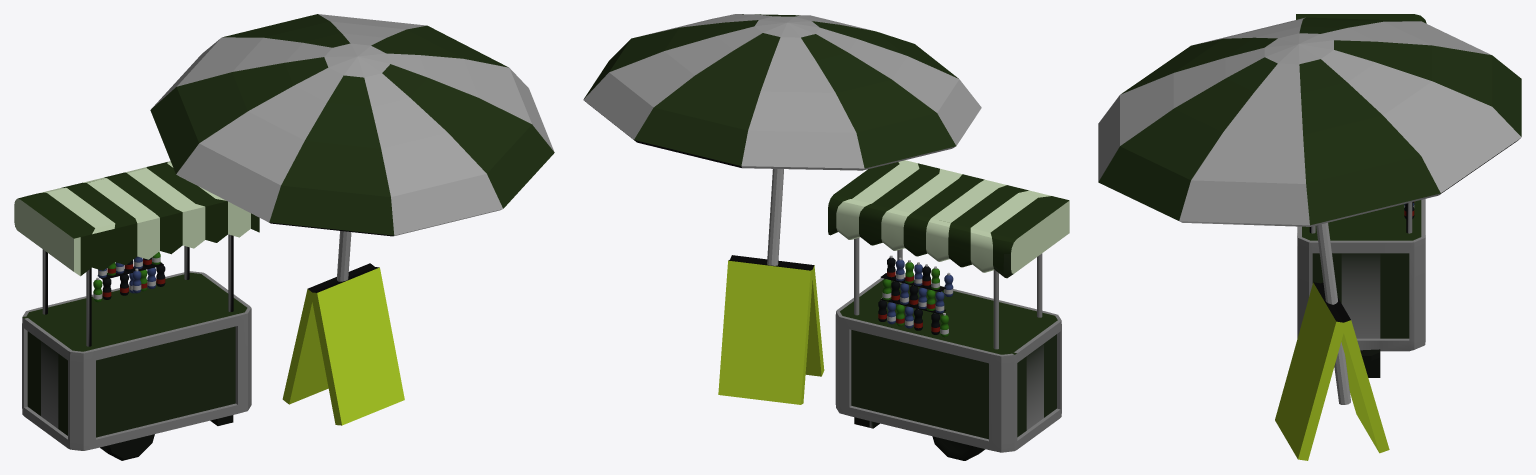
File: SM_snack_001.fbx
The picture shows the model from 3 angles, left to right: view 1: azimuth 30°, elevation 25°; view 2: azimuth 150°, elevation 25°; view 3: azimuth 270°, elevation 25°; orthographic projection. The views are drawn at different scales.
Parts seen in each view (by area): view 1: SM_snack_001; view 2: SM_snack_001; view 3: SM_snack_001.
Boxes of the visible parts, x1,y1,x2,y2 form: SM_snack_001: (14,14,554,460); SM_snack_001: (583,14,1069,460); SM_snack_001: (1098,14,1521,460).
Bounding box in the file's own units: 369 × 273 × 267.
